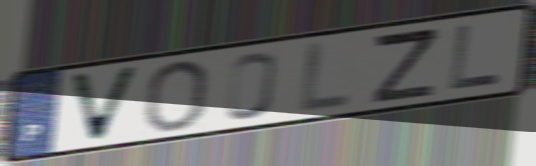0: (225, 50, 281, 123)
L: (296, 39, 353, 114), (447, 23, 504, 93)
O: (140, 56, 213, 134)
V: (66, 63, 143, 145)
Z: (371, 26, 441, 106)
